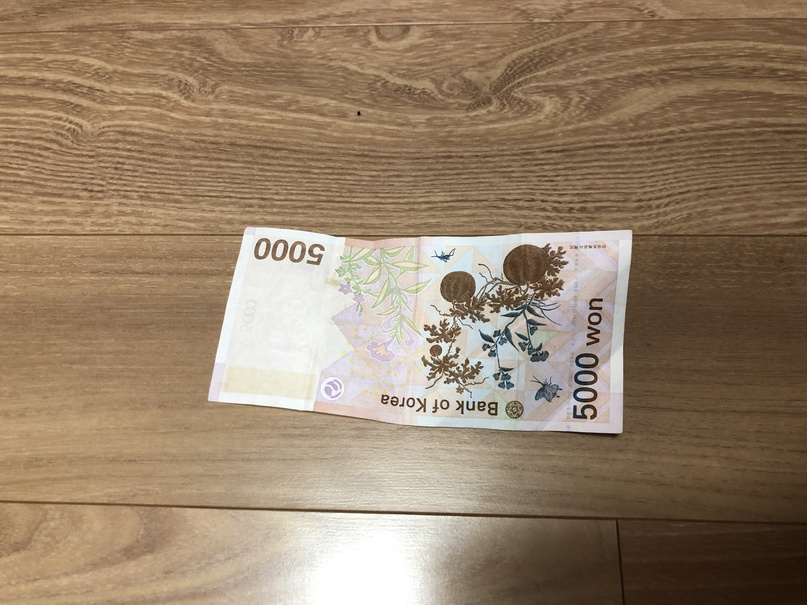5000won: (206, 225, 635, 434)
